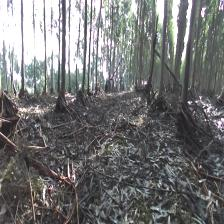trunk: (179, 4, 198, 106), (158, 4, 168, 97), (58, 2, 66, 102), (20, 3, 26, 94), (81, 12, 87, 90), (95, 10, 101, 85), (88, 9, 93, 88)
